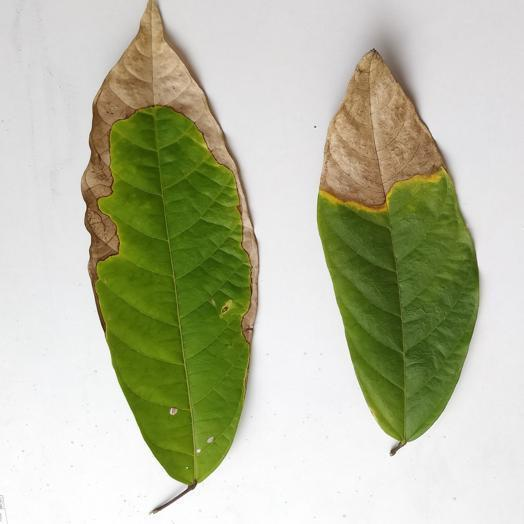Potassium: (82, 0, 257, 512), (318, 50, 478, 453)
